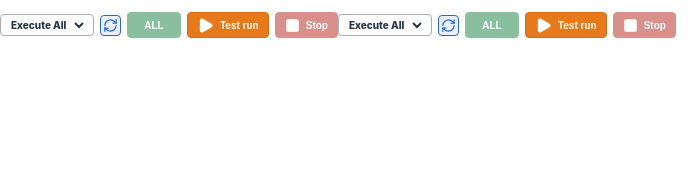
synchronizes selected block and ONE mode across open execution control surfaces
Select "2 - Payment" in the 1st dropdown named "Page Scanner starting block" at (47, 25), box [7,17,87,33]
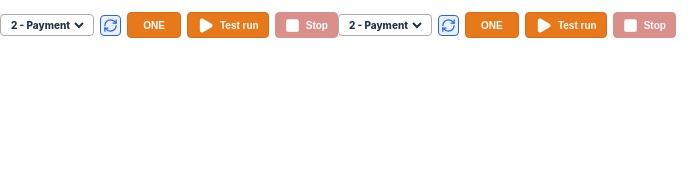
Expected: the 2nd dropdown named "Page Scanner starting block" shows "2 - Payment", [345,17,425,33]
Expected: the number of buttons named "Page Scanner execution mode: ONE" is 2, [127,12,181,38]; [465,12,519,38]
